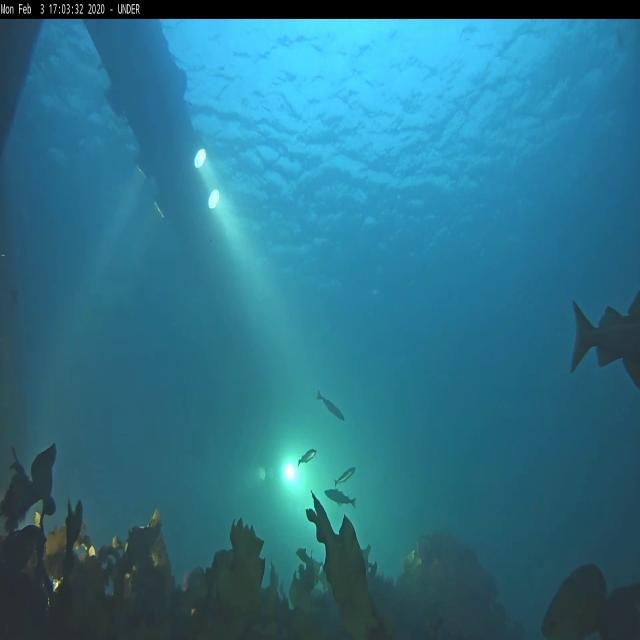fish: (571, 294, 640, 386), (316, 391, 346, 424), (322, 486, 357, 508), (335, 467, 357, 482), (298, 448, 316, 465)
